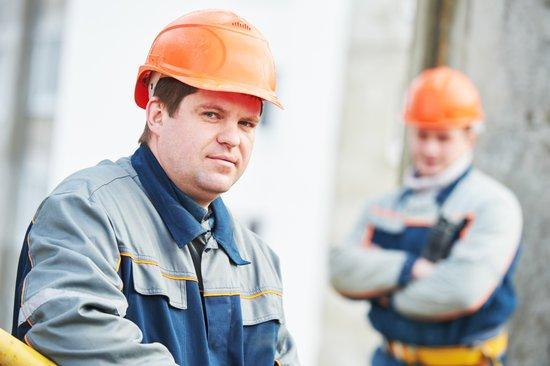helmet: (134, 9, 287, 114), (402, 68, 487, 127)
